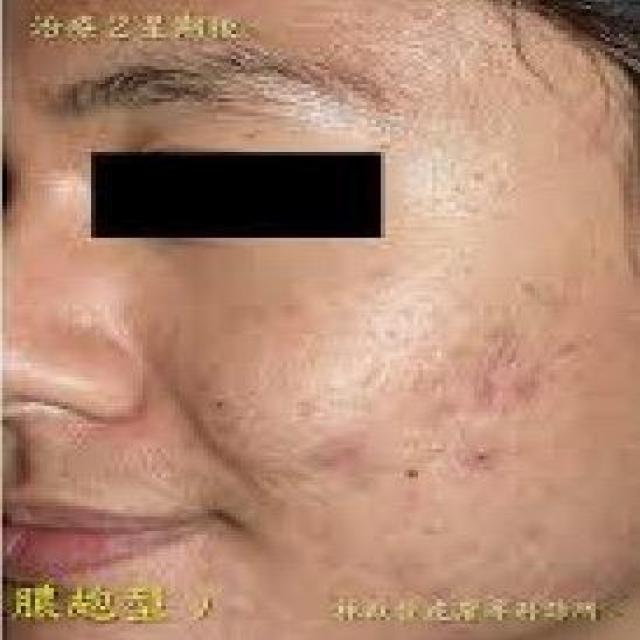pustule: (434, 358, 504, 410), (290, 420, 350, 479), (472, 334, 539, 376), (500, 363, 556, 411), (444, 436, 497, 486), (376, 478, 430, 512)
